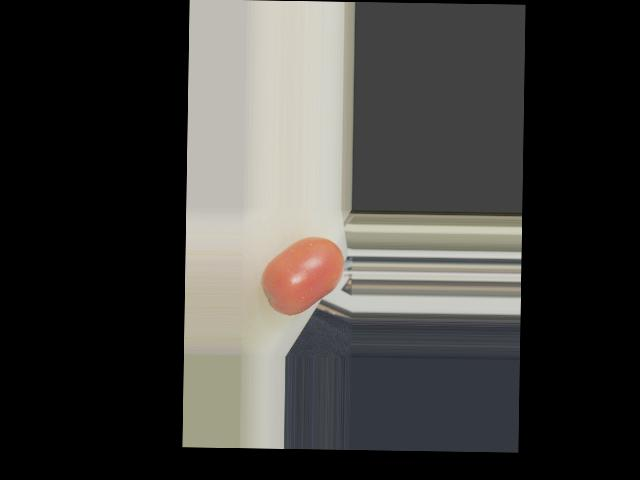tomato: (261, 236, 344, 316)
